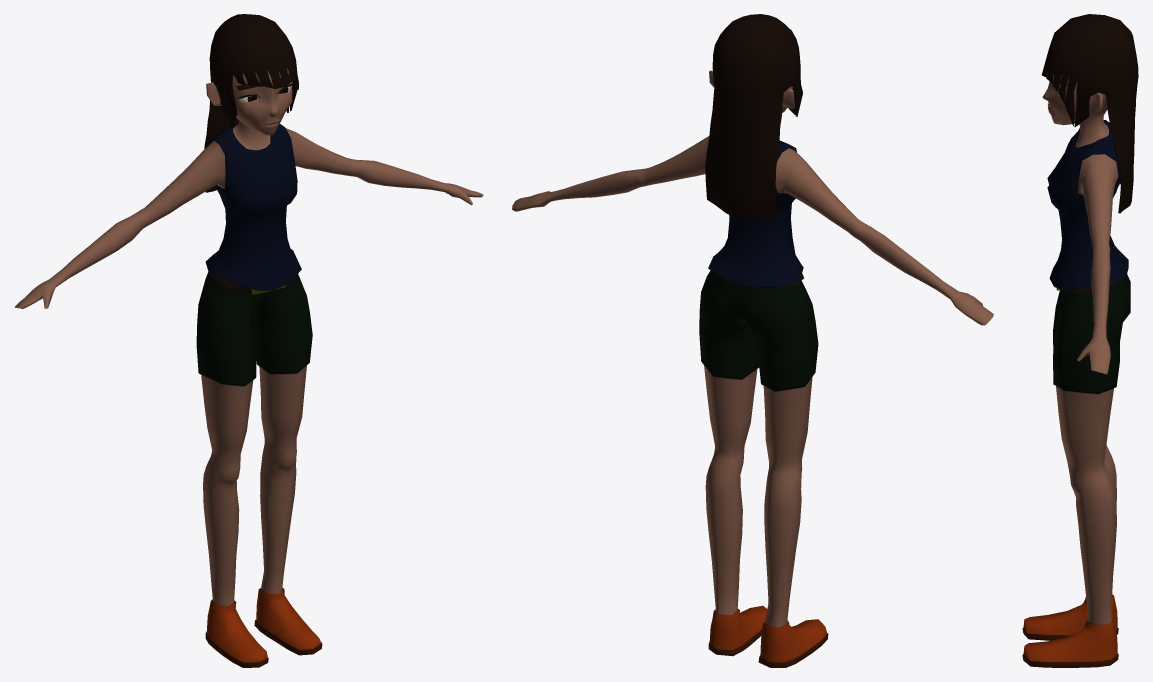
File: BakuruLista.obj
3 views of the same model, side by side, from view 1: azimuth 30°, elevation 25°; view 2: azimuth 150°, elevation 25°; view 3: azimuth 270°, elevation 25° (orthographic). The views are drawn at different scales.
Parts seen in each view (by area): view 1: pestanas1; view 2: pestanas1; view 3: pestanas1.
Part boxes in pixels (x1,y1,x2,y2): pestanas1: (15, 14, 483, 667); pestanas1: (512, 14, 993, 667); pestanas1: (1022, 14, 1138, 667).
Bounding box in the file's own units: 187 × 237 × 39.64.
